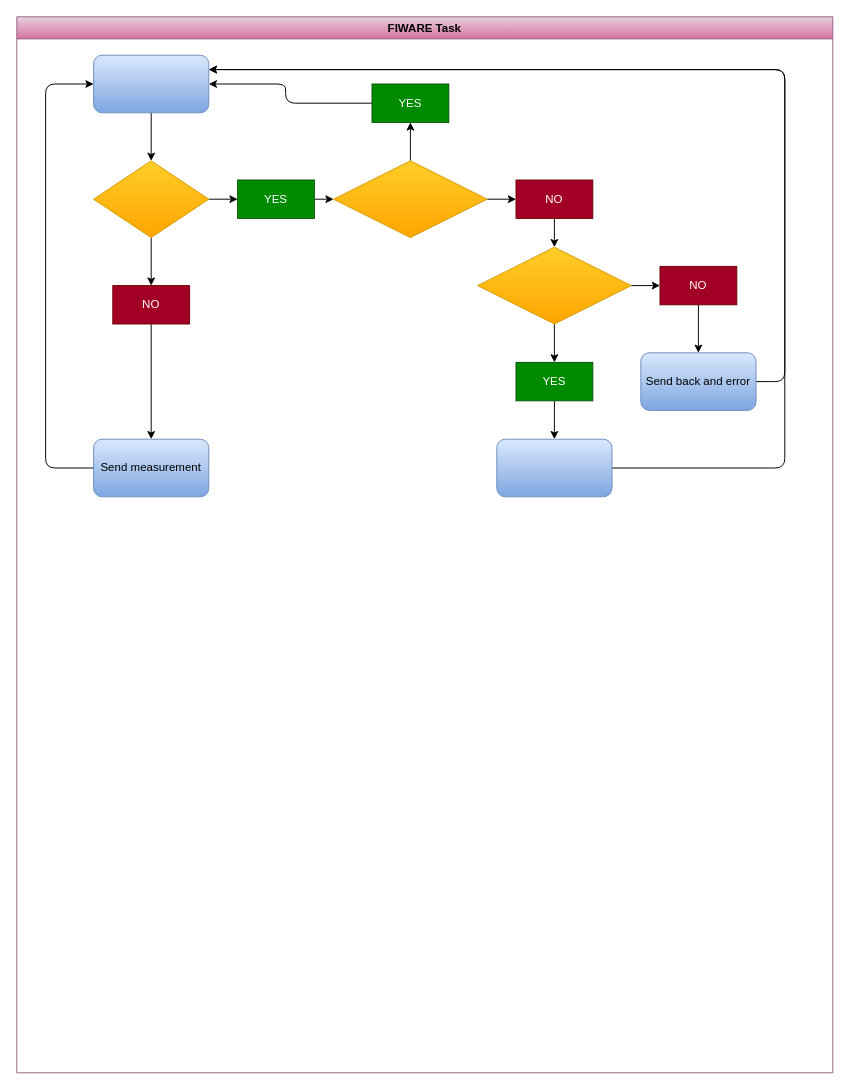
Image size: 850x1090. Some labels were removed from this diagram. Here are the shapes that lost their labels. From the top down, the centre of each, then its label:
At point 151,83: "Wait for incoming measurement in the queue".
At point 151,199: "Timeout?".
At point 410,199: "Is incoming command empty?".
At point 554,285: "Is outgoing command processed?".
At point 554,467: "Set the outgoing command value".
